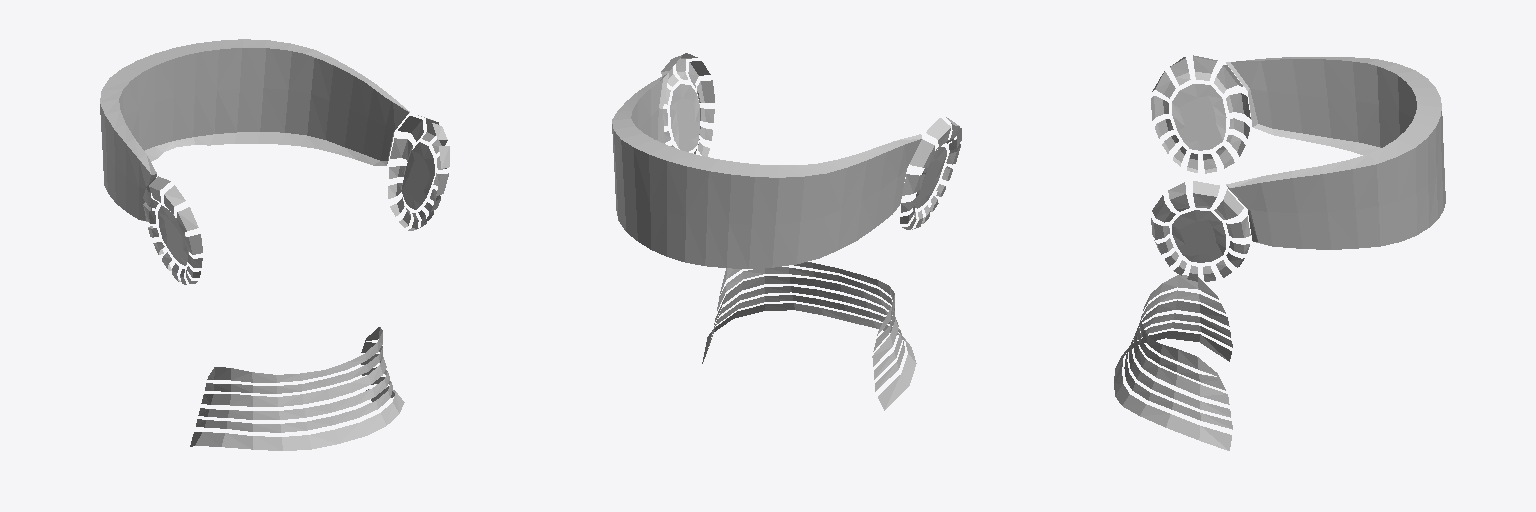
File: headHigh.obj
3 views of the same model, side by side, from view 1: azimuth 30°, elevation 25°; view 2: azimuth 150°, elevation 25°; view 3: azimuth 270°, elevation 25° (orthographic).
Parts seen in each view (by area): view 1: Head.010; view 2: Head.010; view 3: Head.010.
Part boxes in pixels (bbox=[...]): Head.010: bbox=[100, 39, 449, 450]; Head.010: bbox=[612, 53, 961, 410]; Head.010: bbox=[1114, 55, 1445, 450].
Bounding box in the file's own units: 0.1606 × 0.1656 × 0.1651.